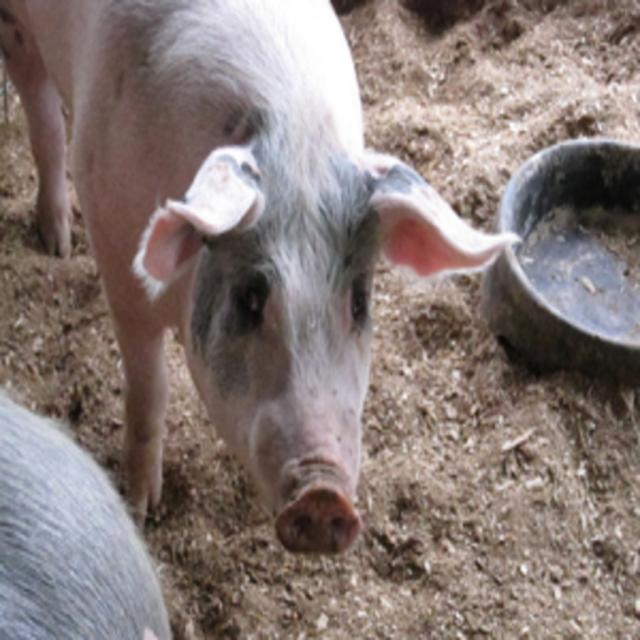Pig: (0, 0, 518, 557), (0, 396, 173, 638)
